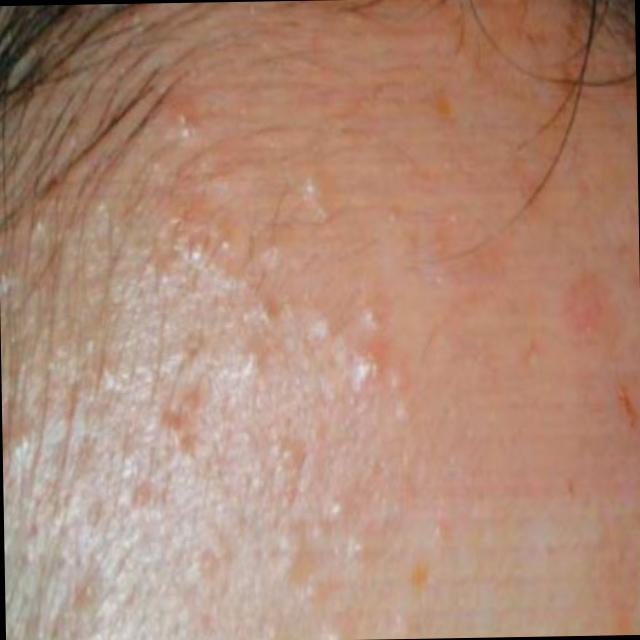fungal: (132, 78, 424, 613)
